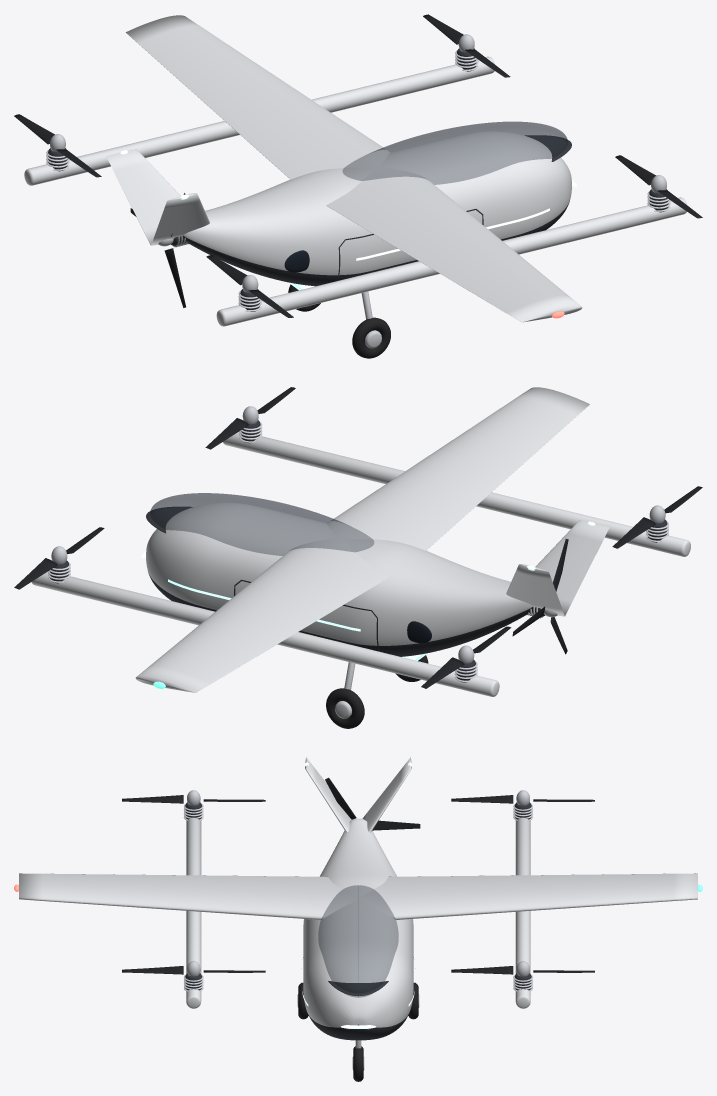
The model's file is evtol-sustentacion_crucero.glb.
3 views of the same model, one above another, from view 1: azimuth 30°, elevation 25°; view 2: azimuth 150°, elevation 25°; view 3: azimuth 270°, elevation 25° (orthographic). The views are drawn at different scales.
Parts seen in each view (by area): view 1: ala, fuselaje, cabina, boom.001, boom, cola_v (×2), cubierta.002, marco_cabina; view 2: ala, fuselaje, cabina, boom, boom.001, cola_v (×2), cubierta.001, marco_cabina; view 3: ala, fuselaje, cabina, boom, boom.001, cola_v (×2), marco_cabina.
Boxes of the visible parts, x1=… form: ala: x1=126, y1=15, x2=582, y2=322; fuselaje: x1=182, y1=131, x2=571, y2=286; cabina: x1=342, y1=121, x2=567, y2=184; boom.001: x1=216, y1=197, x2=686, y2=326; boom: x1=24, y1=56, x2=494, y2=185; cola_v (×2): x1=106, y1=149, x2=209, y2=245; cubierta.002: x1=352, y1=317, x2=390, y2=358; marco_cabina: x1=525, y1=135, x2=571, y2=161; ala: x1=135, y1=387, x2=589, y2=692; fuselaje: x1=146, y1=502, x2=533, y2=656; cabina: x1=150, y1=493, x2=373, y2=555; boom: x1=31, y1=571, x2=499, y2=696; boom.001: x1=223, y1=431, x2=690, y2=556; cola_v (×2): x1=506, y1=520, x2=609, y2=616; cubierta.001: x1=326, y1=688, x2=364, y2=728; marco_cabina: x1=146, y1=507, x2=191, y2=533; ala: x1=19, y1=873, x2=697, y2=919; fuselaje: x1=303, y1=818, x2=413, y2=1040; cabina: x1=318, y1=885, x2=398, y2=997; boom: x1=515, y1=819, x2=530, y2=1008; boom.001: x1=186, y1=819, x2=201, y2=1008; cola_v (×2): x1=305, y1=757, x2=411, y2=832; marco_cabina: x1=328, y1=981, x2=388, y2=996.
Bounding box in the file's own units: 4.6 × 1.95 × 6.9.
